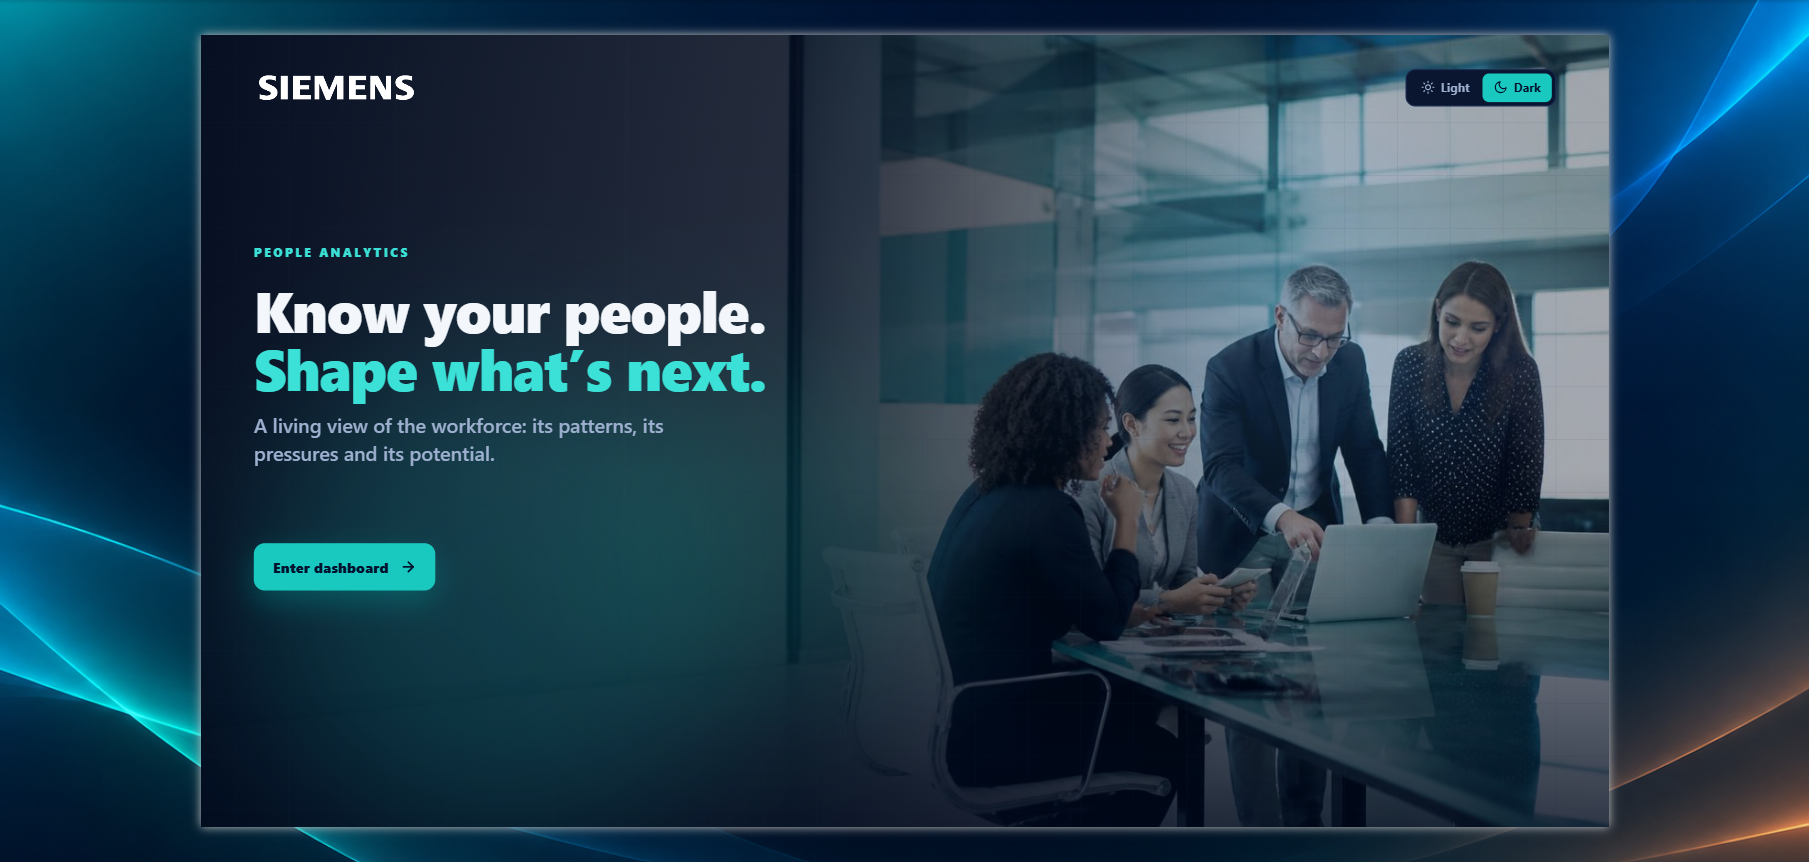

The dashboard page shown, as its layout file describes it:
{"tool":"powerbi","page":{"name":"Landing Page","canvas":[1280,720],"ordinal":0},"visuals":[{"type":"htmlContent443BE3AD55E043BF878BED274D3A6855","fields":{"content":["HTML Visuals.Landing_Page_HTML"]},"box":[0,0,1280,720],"z":0},{"type":"actionButton","title":"Overview","box":[48,462,165,43],"z":1000}]}

Visuals, with their boxes on the page's 1280x720 design canvas (x1, y1, x2, y2). These are canvas units, not pixel positions in the 1809x862 screenshot, which may show the page scaled, cropped or inside an application window:
htmlContent443BE3AD55E043BF878BED274D3A6855 - HTML Visuals.Landing_Page_HTML: 0 0 1280 720
"Overview" actionButton: 48 462 213 505
